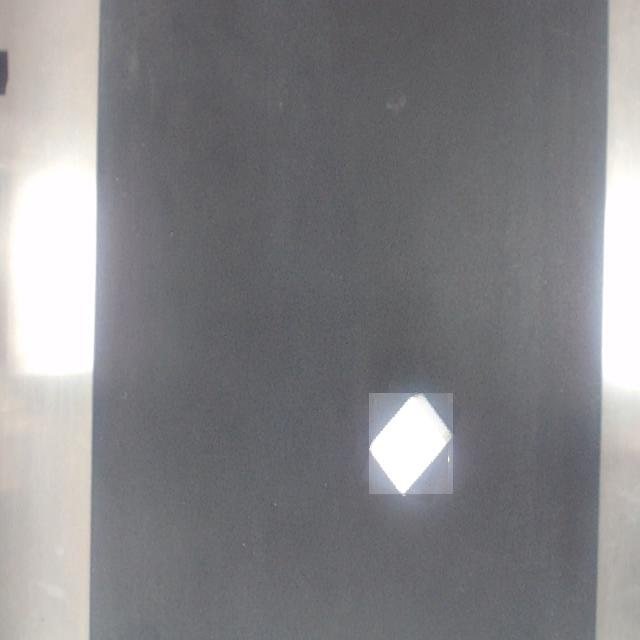Blanco: (370, 394, 453, 494)
